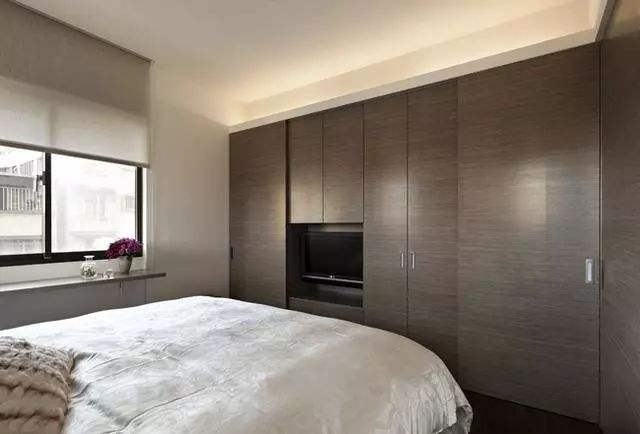床: (0, 296, 464, 434)
枕头: (3, 336, 73, 430)
